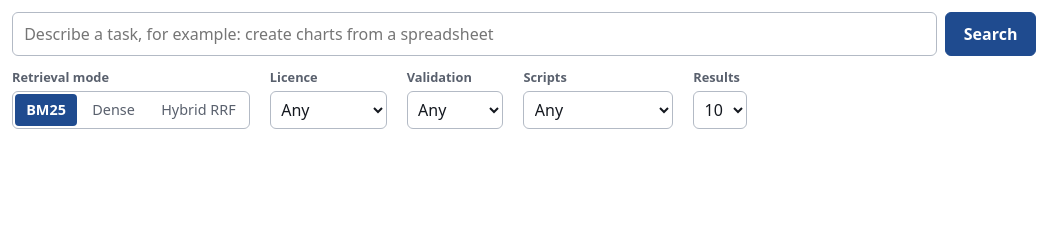
Scenario: SearchView › reports an empty result set without claiming failure
Type "nothing matches this" into the search field at (475, 34), box [12,12,937,56]
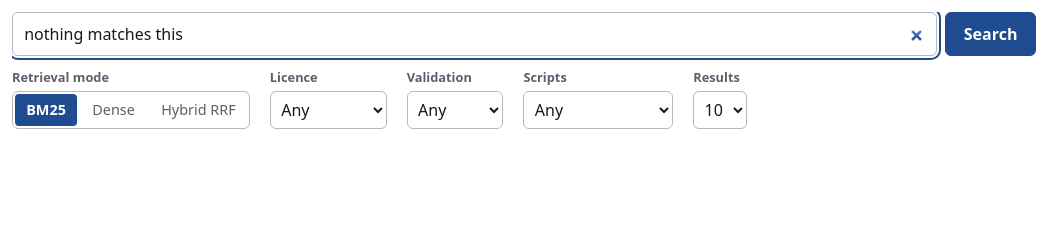
Click the button "Search" at (991, 34), box [945,12,1036,56]
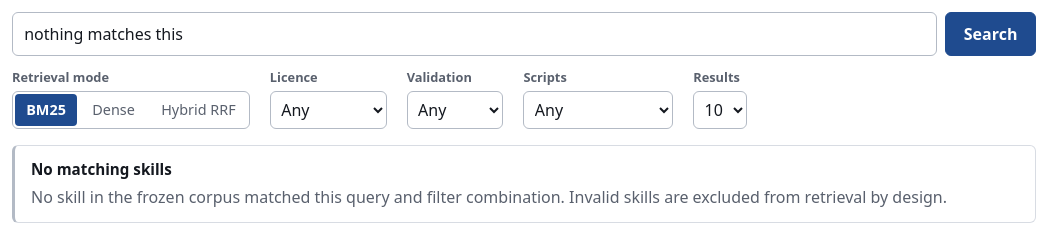
Now the heading "No matching skills" is shown, box [31,159,172,179]
